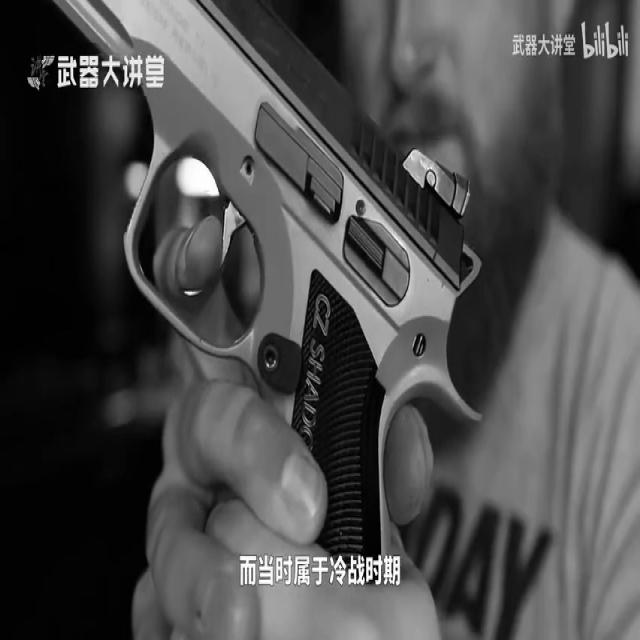Hand-Gun: (37, 0, 525, 640)
